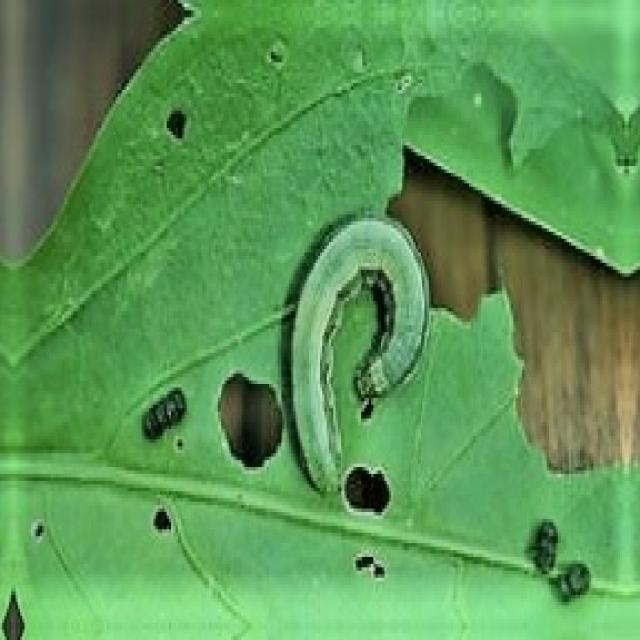armyworm: (290, 205, 427, 508)
